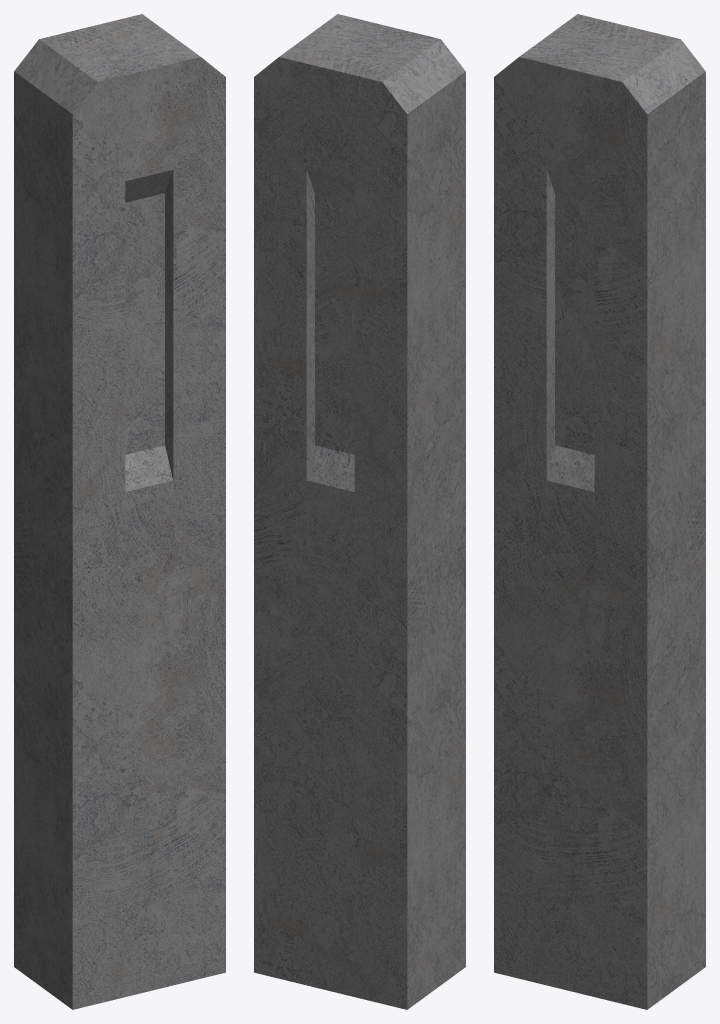
The model's file is concrete.obj.
3 renders of one model, left to right at view 1: azimuth 30°, elevation 25°; view 2: azimuth 150°, elevation 25°; view 3: azimuth 330°, elevation 25°, orthographic.
Parts seen in each view (by area): view 1: Cube.001_Cube.004; view 2: Cube.001_Cube.004; view 3: Cube.001_Cube.004.
Part boxes in pixels (left/top/right/bottom): Cube.001_Cube.004: left=14, top=14, right=225, bottom=1009; Cube.001_Cube.004: left=254, top=14, right=465, bottom=1009; Cube.001_Cube.004: left=494, top=14, right=705, bottom=1009.
Size of the model in its own units: 0.1999 by 1.15 by 0.1325.
